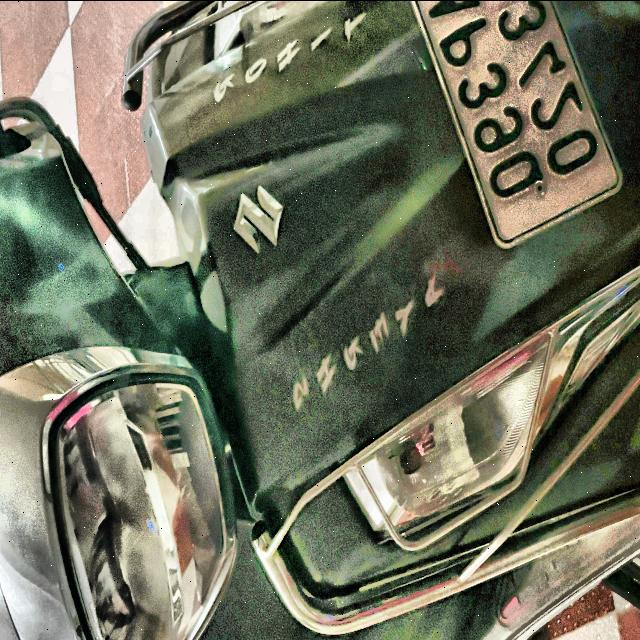license-plate: (417, 0, 627, 245)
